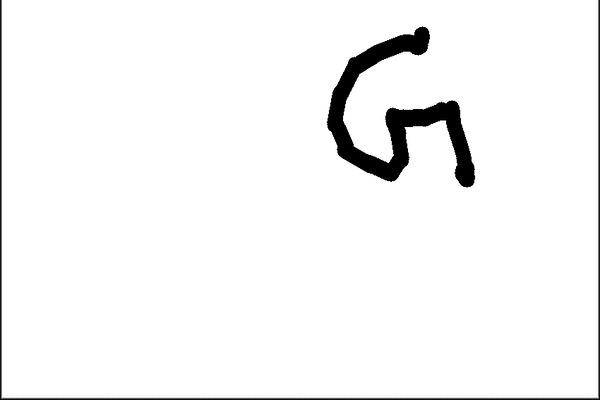G: (320, 21, 480, 196)
